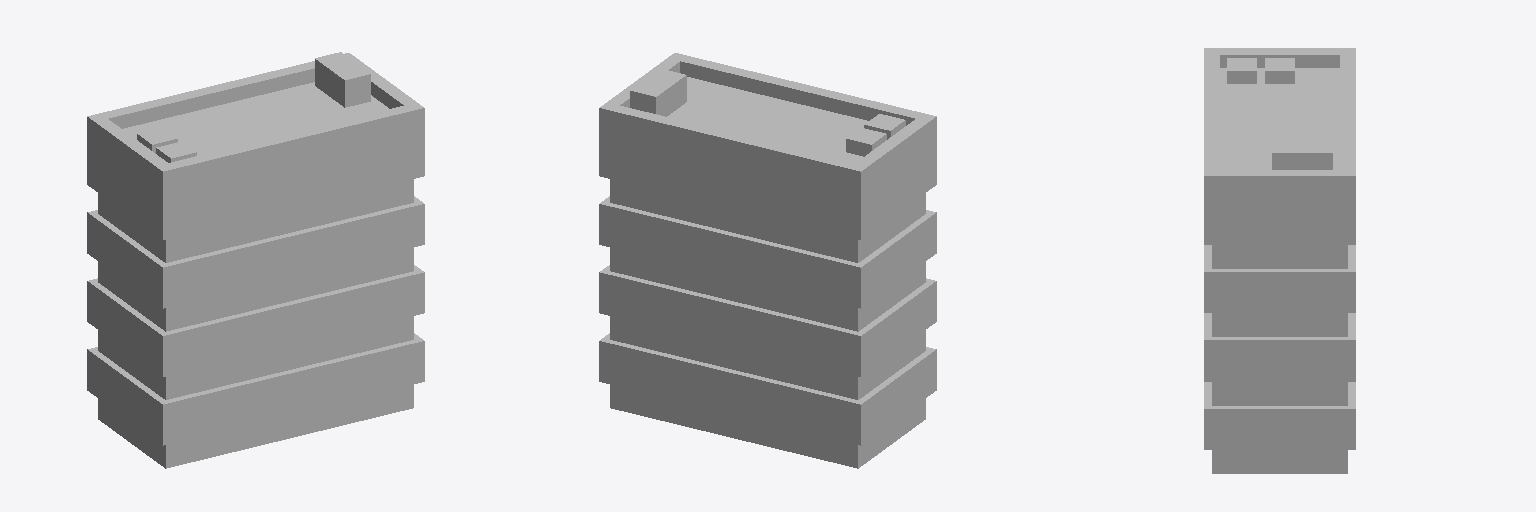
Rendered from low_wideA.obj.
The picture shows the model from 3 angles: view 1: azimuth 30°, elevation 25°; view 2: azimuth 150°, elevation 25°; view 3: azimuth 270°, elevation 25°; orthographic projection.
Visible parts, largest first — view 1: low_wideA; view 2: low_wideA; view 3: low_wideA.
Part boxes in pixels (bbox=[...]): low_wideA: bbox=[87, 52, 424, 468]; low_wideA: bbox=[599, 53, 936, 468]; low_wideA: bbox=[1204, 48, 1355, 473].
Size of the model in its own units: 1 by 1.15 by 0.5.